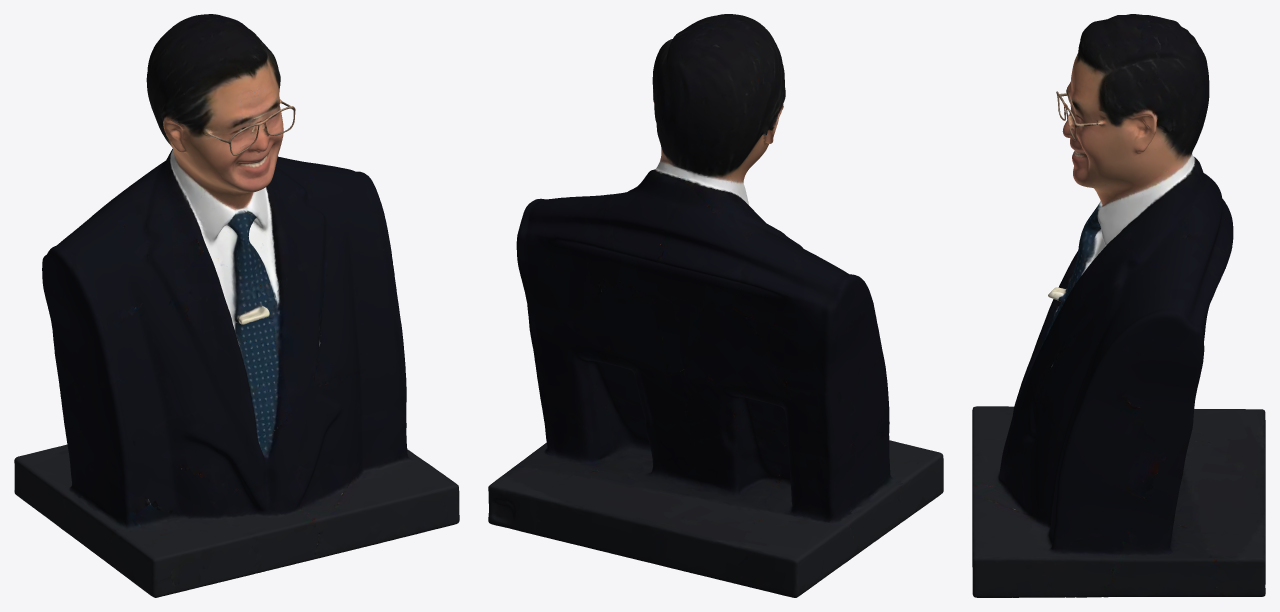
The model's file is alberto-fujimori.glb.
3 renders of one model, left to right at view 1: azimuth 30°, elevation 25°; view 2: azimuth 150°, elevation 25°; view 3: azimuth 270°, elevation 25°, orthographic. The views are drawn at different scales.
Size of the model in its own units: 1.29 by 1.9 by 1.02.
1 material, 1 textured.
